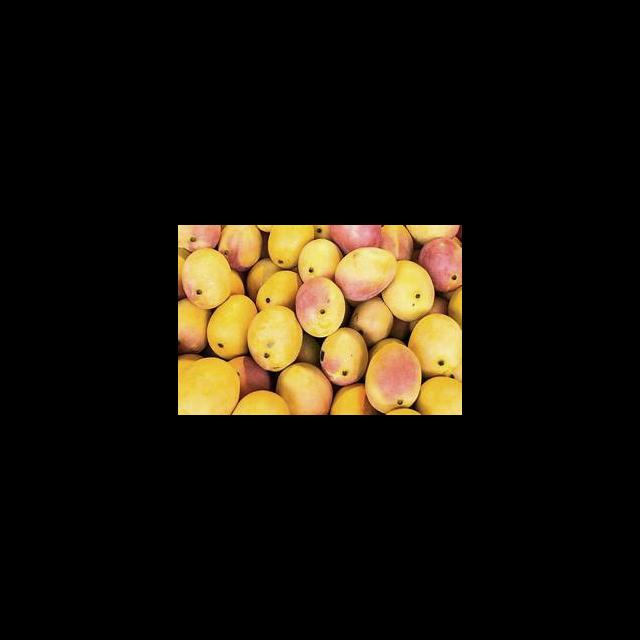mango: (365, 339, 422, 415), (246, 305, 304, 373), (178, 354, 241, 415), (407, 314, 462, 383), (333, 247, 397, 303), (206, 295, 259, 361), (381, 260, 435, 322), (295, 277, 347, 339), (178, 248, 230, 310), (274, 362, 334, 415), (319, 327, 370, 387), (298, 239, 345, 282)
